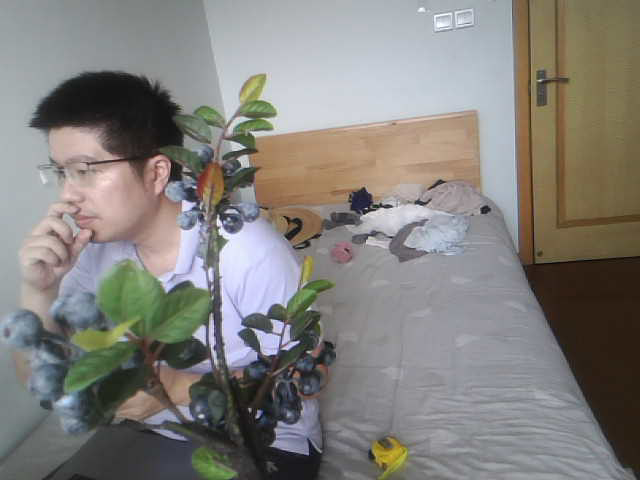blueberry: (48, 291, 104, 329), (55, 403, 104, 430), (270, 376, 302, 417), (0, 308, 35, 343), (191, 391, 221, 426), (26, 371, 64, 398), (218, 206, 243, 236), (244, 363, 273, 387), (171, 209, 201, 231), (296, 352, 321, 374), (33, 345, 65, 361), (162, 187, 187, 207), (299, 378, 320, 400), (192, 140, 212, 163), (238, 195, 257, 217)
